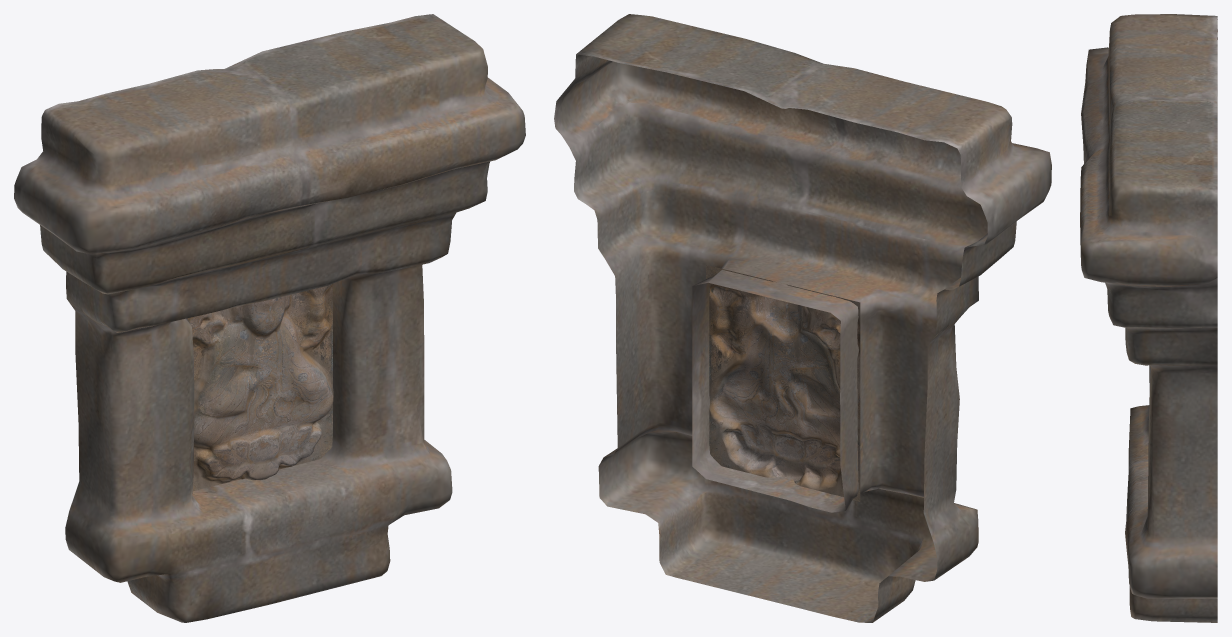
Rendered from FoKan01.glb.
The picture shows the model from 3 angles, left to right: view 1: azimuth 30°, elevation 25°; view 2: azimuth 150°, elevation 25°; view 3: azimuth 270°, elevation 25°; orthographic projection. The views are drawn at different scales.
Visible parts, largest first — view 1: FoKan01; view 2: FoKan01; view 3: FoKan01.
Boxes of the visible parts, bbox=[...] form: FoKan01: bbox=[14, 14, 525, 622]; FoKan01: bbox=[554, 14, 1051, 622]; FoKan01: bbox=[1080, 14, 1217, 622].
Bounding box in the file's own units: 2.4 × 2.65 × 0.6918.
Materials: 2 (2 with a texture image).
